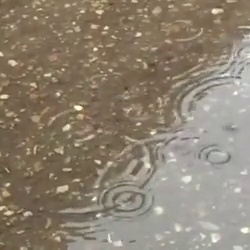drop: (97, 181, 152, 220), (154, 133, 204, 169), (49, 109, 98, 144), (165, 19, 202, 42), (196, 145, 230, 167), (122, 105, 145, 122), (220, 120, 238, 133)
